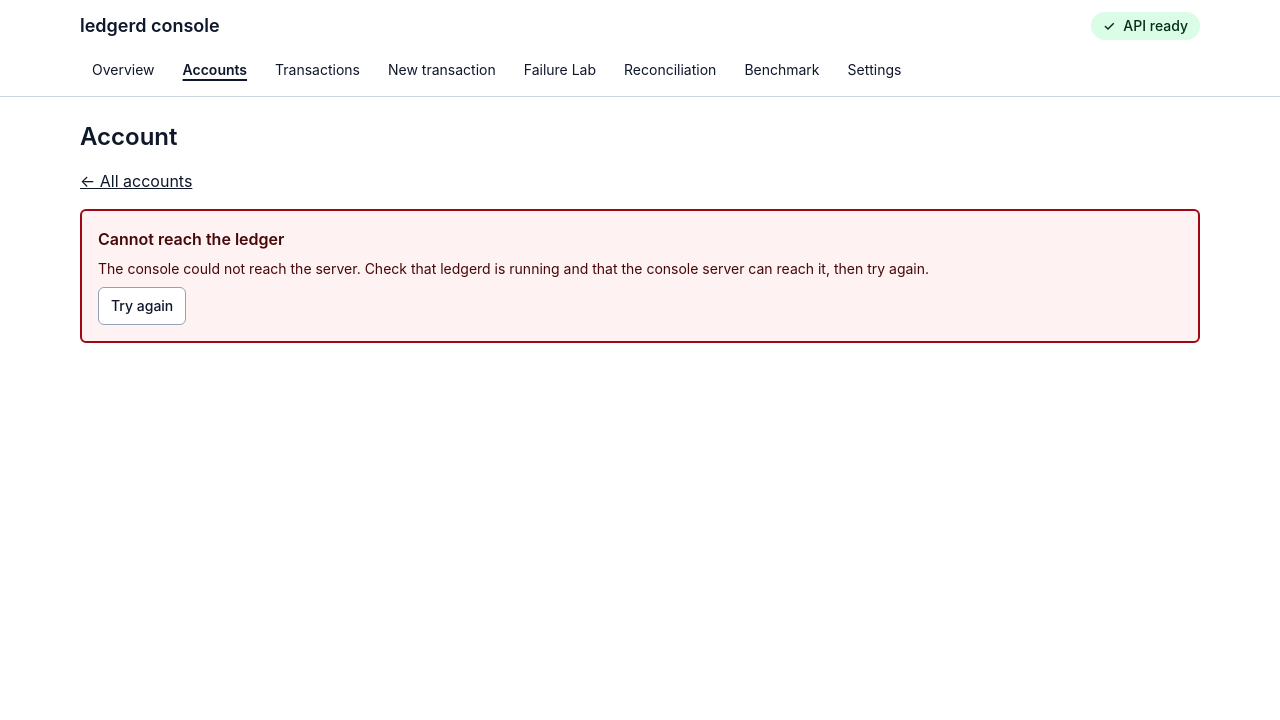
Test: the account summary › explains a failure to load, with a retry, not an empty page
Check: the heading "Account" is shown, box [80,121,178,153]
Check: the text "Cannot reach the ledger" is shown, box [98,229,284,249]
Click the button "Try again" at (142, 306), box [98,287,186,325]
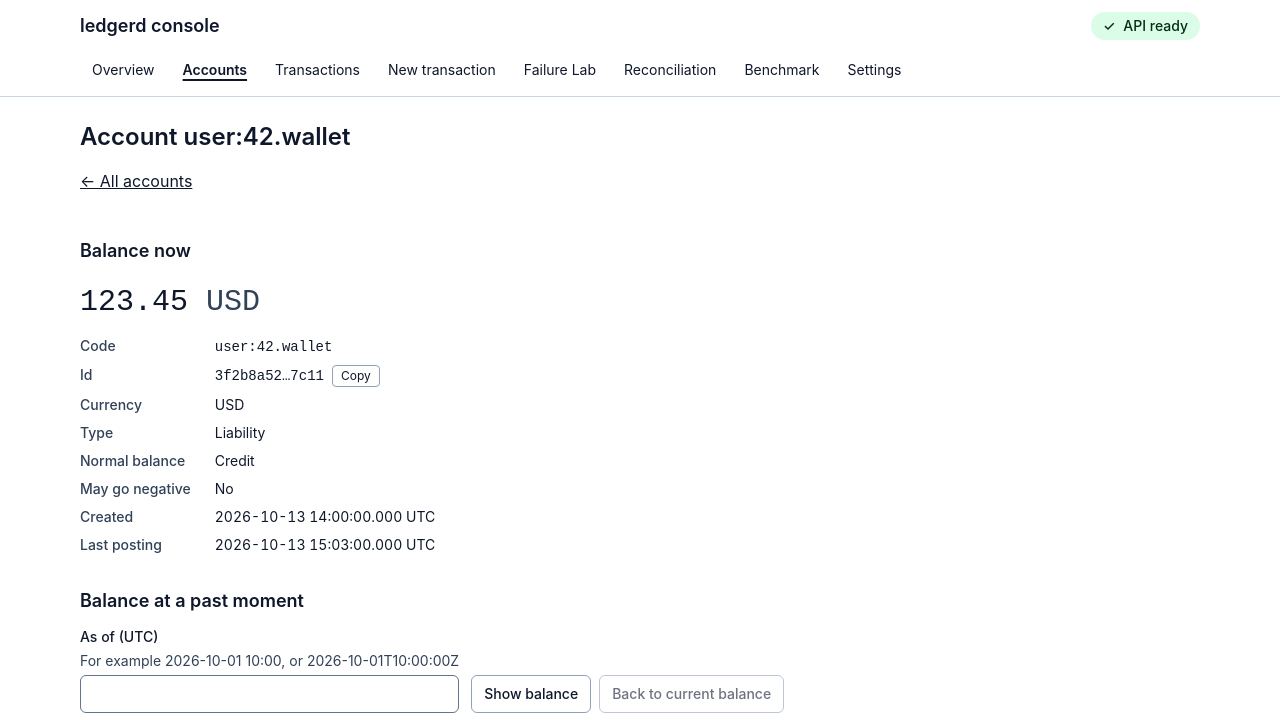
Check: the heading "Account user:42.wallet" is shown, box [80,121,350,153]
